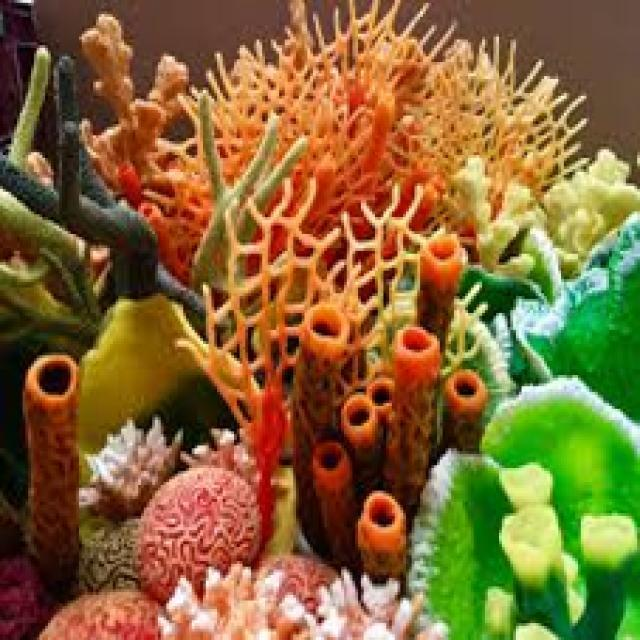Healthy: (429, 404, 640, 635), (203, 237, 397, 385), (312, 23, 428, 209), (426, 51, 567, 179), (196, 112, 297, 285), (86, 304, 214, 432), (161, 583, 434, 640), (84, 21, 187, 171), (138, 474, 254, 601), (20, 357, 89, 568), (529, 273, 639, 403), (294, 308, 344, 487), (551, 157, 634, 260), (500, 509, 564, 640), (467, 172, 542, 276), (391, 329, 439, 485), (577, 513, 635, 640), (251, 398, 292, 543), (38, 593, 159, 640), (1, 556, 55, 640), (313, 444, 352, 555), (357, 496, 407, 577), (419, 238, 456, 330), (450, 363, 487, 454), (344, 394, 379, 486), (266, 557, 337, 591), (509, 465, 555, 508)
